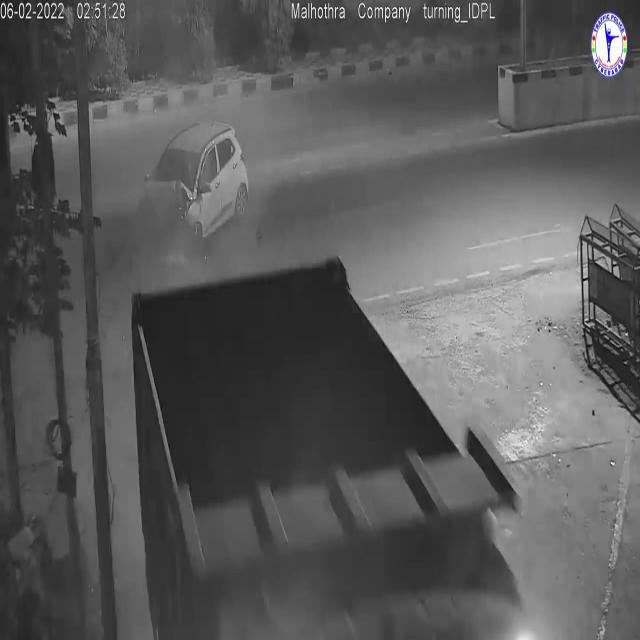accident: (137, 118, 254, 246)
